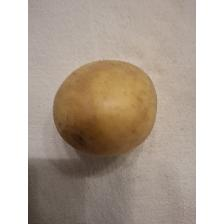Kartoffel: (50, 54, 160, 160)
